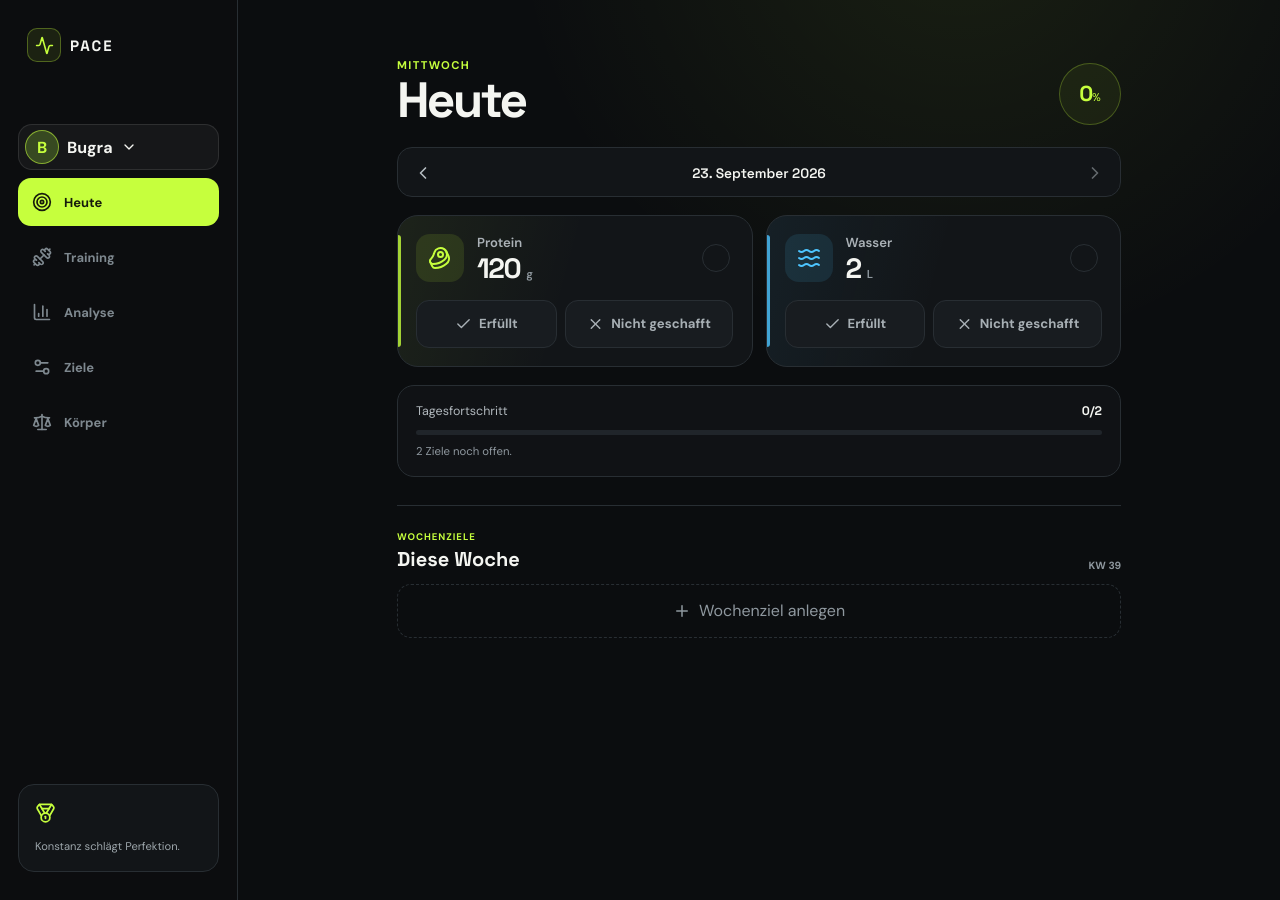
Heute-Interaktion › entfernt eine dauerhaft abgelehnte Mutation aus der Queue und speichert die folgende
Click the button with class "failed" below "120" at (649, 324), box [565, 300, 734, 348]
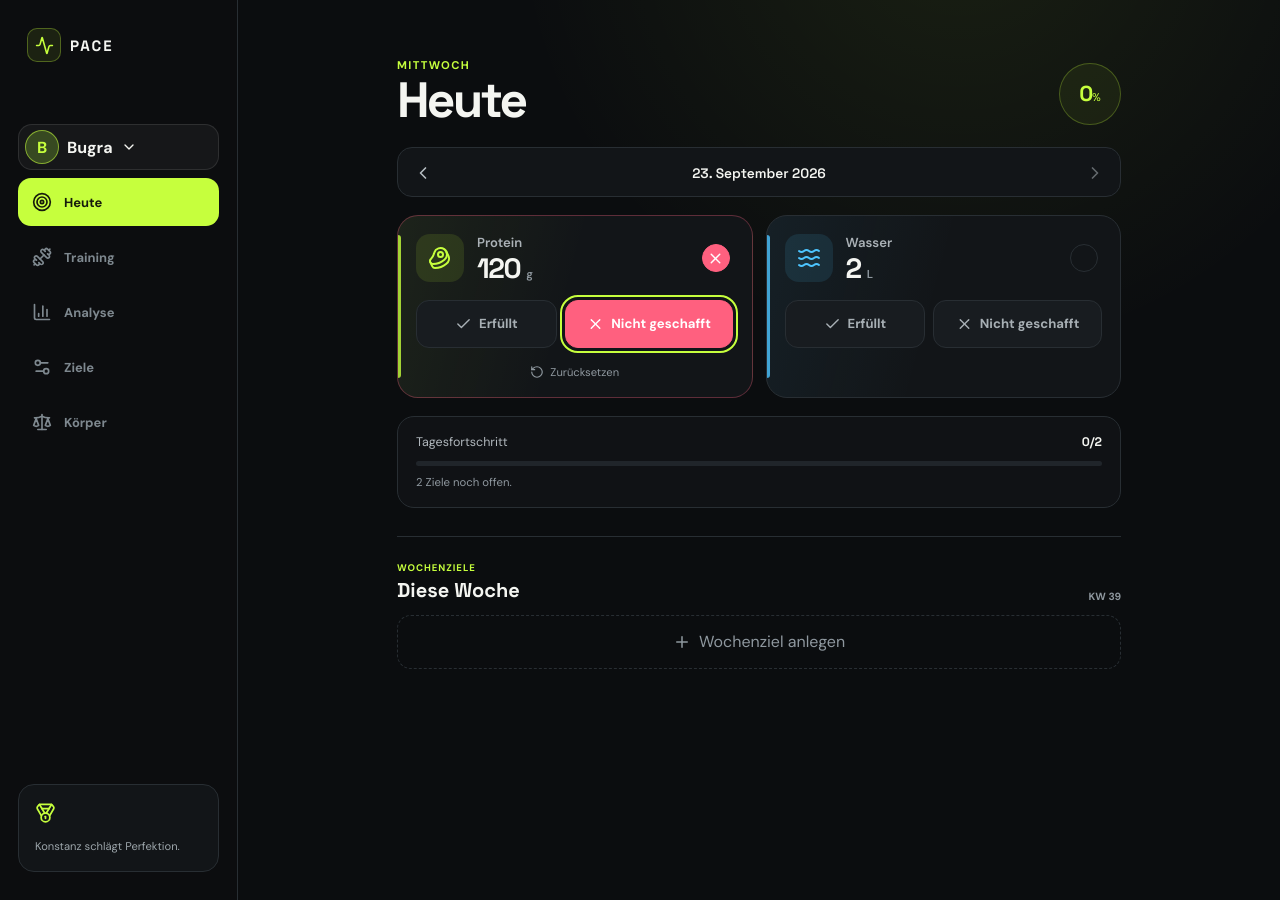
Click the button with class "done" below "120" at (486, 324), box [416, 300, 557, 348]
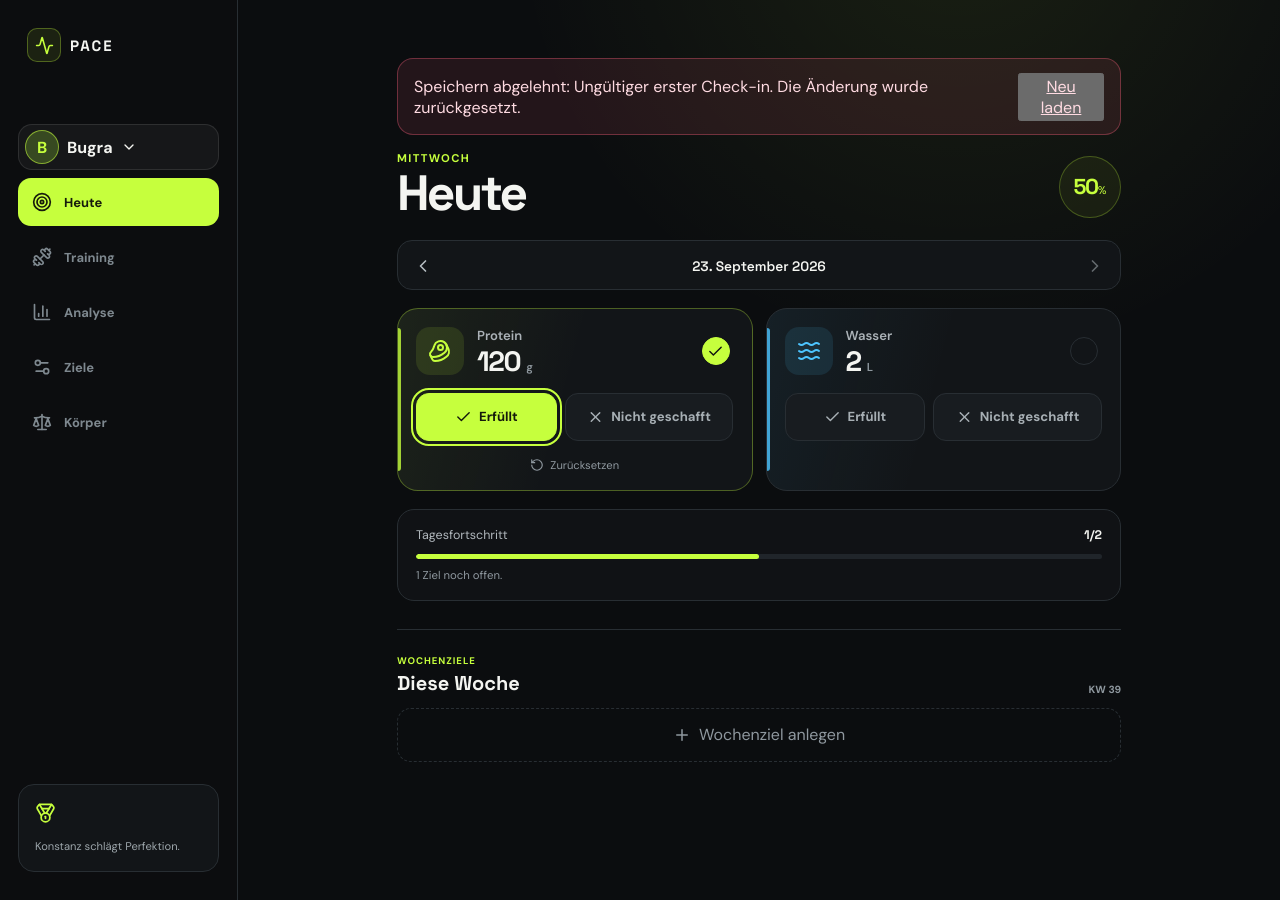
Now the message shows "Speichern abgelehnt: Ungültiger erster Check-in. Die Änderung wurde zurückgesetzt.", box [414, 76, 928, 118]
